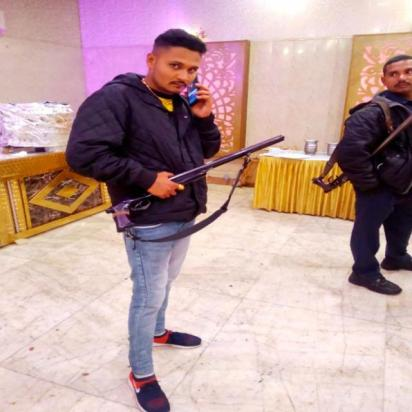Gun: (104, 133, 287, 234), (310, 114, 412, 194)
